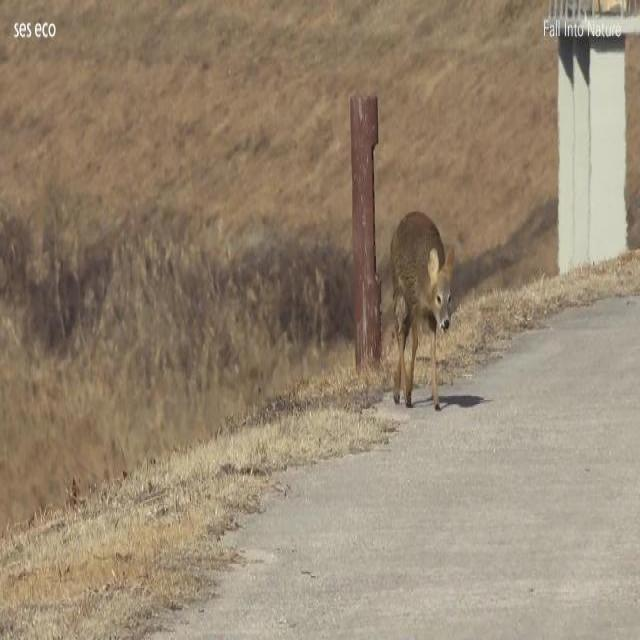deer: (390, 208, 454, 411)
